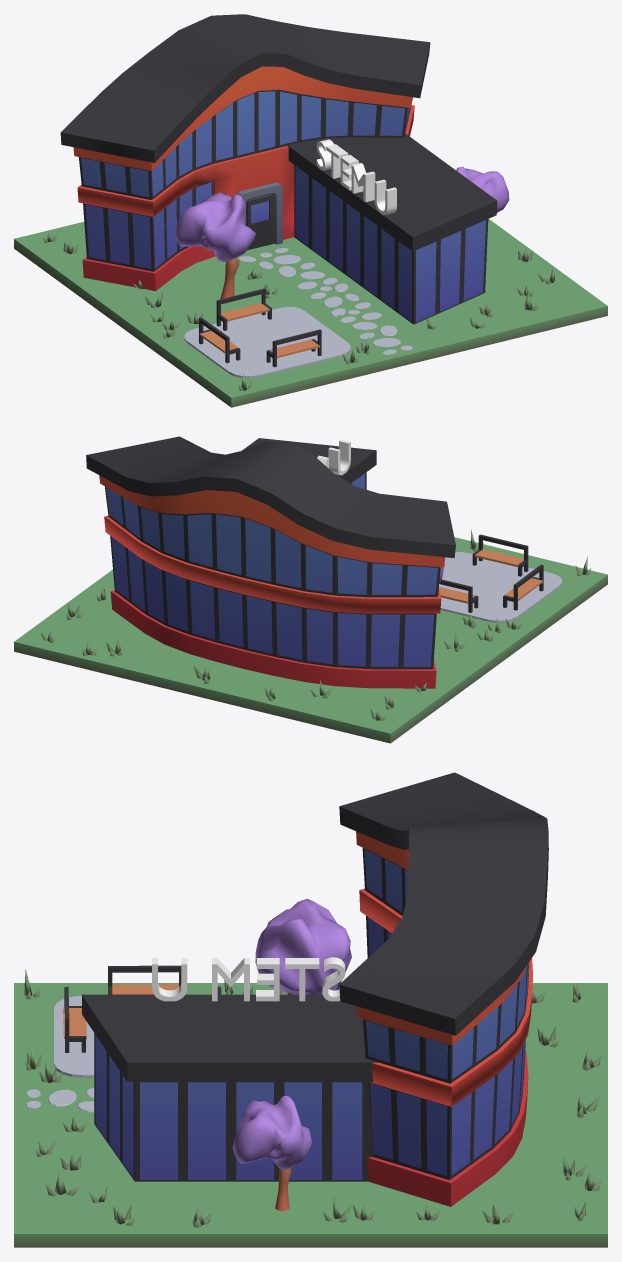
The model's file is university_cen.glb.
3 views of the same model, one above another, from view 1: azimuth 30°, elevation 25°; view 2: azimuth 150°, elevation 25°; view 3: azimuth 270°, elevation 25° (orthographic). The views are drawn at different scales.
Parts seen in each view (by area): view 1: university_cen; view 2: university_cen; view 3: university_cen.
Part boxes in pixels (x1,y1,x2,y2): university_cen: (14,14,607,407); university_cen: (14,436,607,743); university_cen: (14,772,607,1247).
Bounding box in the file's own units: 2.05 × 1.05 × 2.
1 material, 1 textured.
